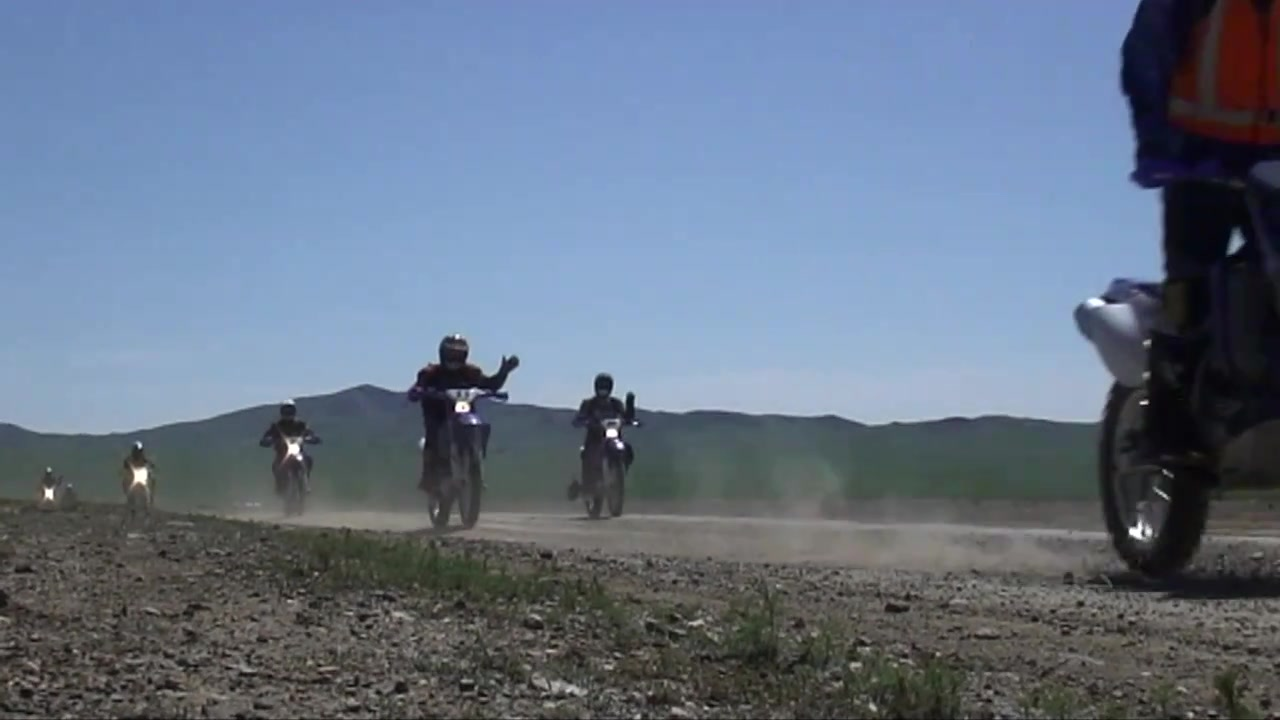motorbike: (1073, 158, 1280, 586), (412, 385, 512, 530), (569, 416, 649, 520), (262, 425, 322, 521), (115, 457, 161, 515), (40, 481, 66, 511)
